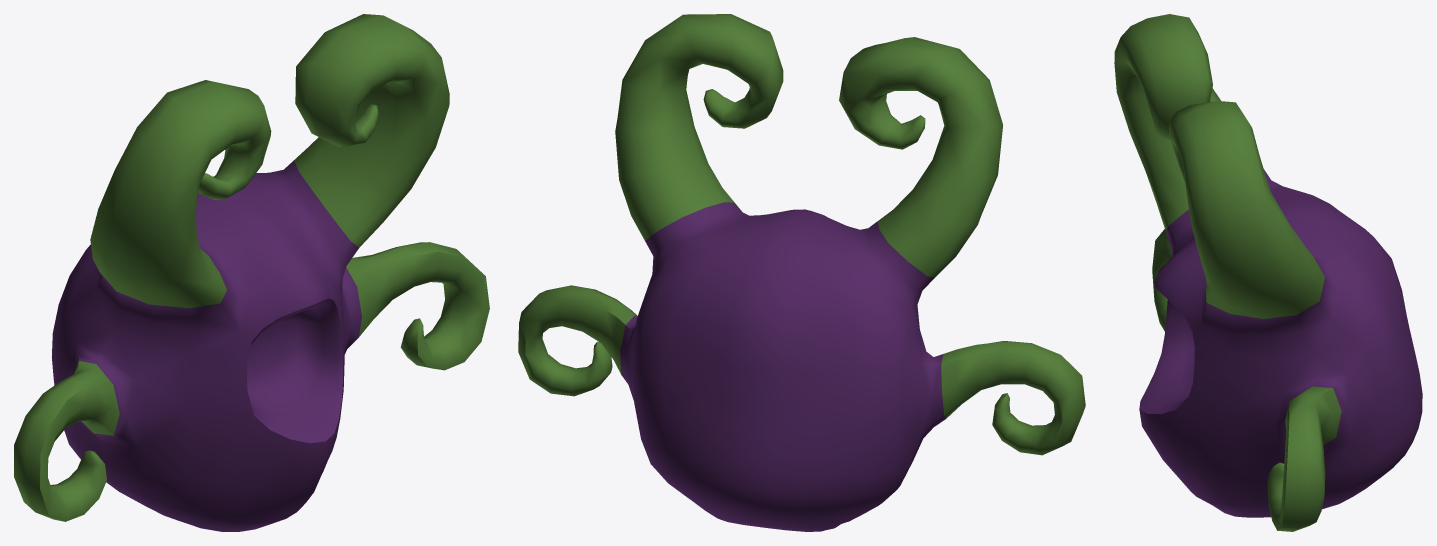
The model's file is Alien_Blob.fbx.
3 renders of one model, left to right at view 1: azimuth 30°, elevation 25°; view 2: azimuth 150°, elevation 25°; view 3: azimuth 270°, elevation 25°, orthographic. The views are drawn at different scales.
Visible parts, largest first — view 1: Alien_Blob; view 2: Alien_Blob; view 3: Alien_Blob.
Boxes of the visible parts, x1,y1,x2,y2 form: Alien_Blob: (14, 14, 489, 531); Alien_Blob: (518, 14, 1085, 531); Alien_Blob: (1114, 14, 1422, 531).
Size of the model in its own units: 221 by 189 by 121.
